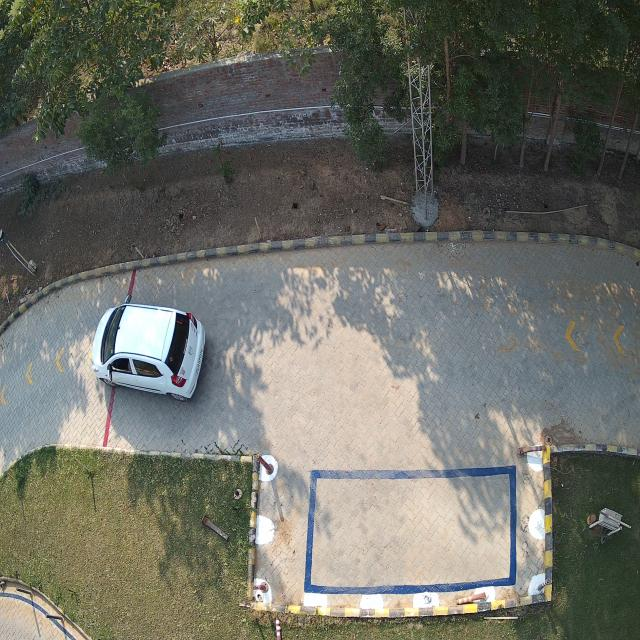car: (91, 303, 205, 400)
